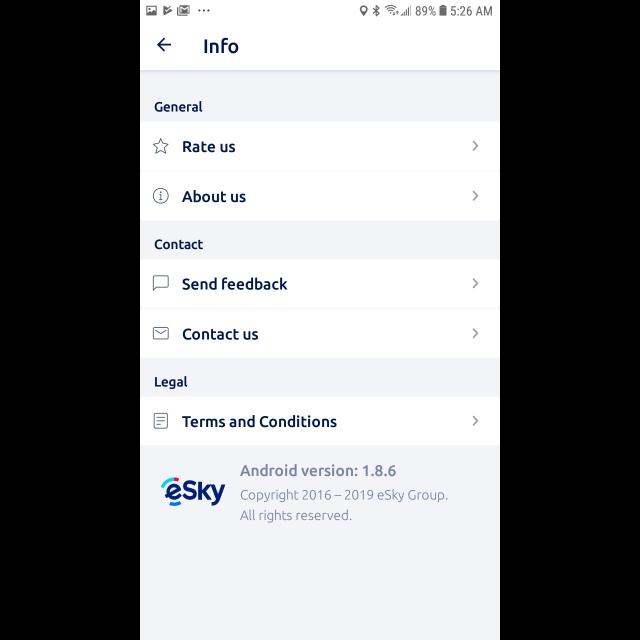icon: (154, 138, 170, 154), (154, 188, 170, 204), (153, 276, 169, 292), (154, 413, 168, 429), (158, 38, 172, 52), (154, 328, 170, 340), (472, 278, 478, 290), (472, 190, 478, 202), (473, 140, 479, 152), (472, 416, 478, 426), (472, 329, 478, 339)
image: (161, 478, 225, 507)
text: (240, 489, 448, 523), (182, 416, 338, 428), (240, 464, 396, 476), (182, 278, 288, 290), (184, 328, 258, 340), (182, 190, 246, 202), (183, 141, 235, 153), (205, 38, 239, 54), (155, 101, 203, 112), (154, 240, 203, 250), (156, 376, 188, 389)
uppertaskbar: (140, 1, 500, 18)
